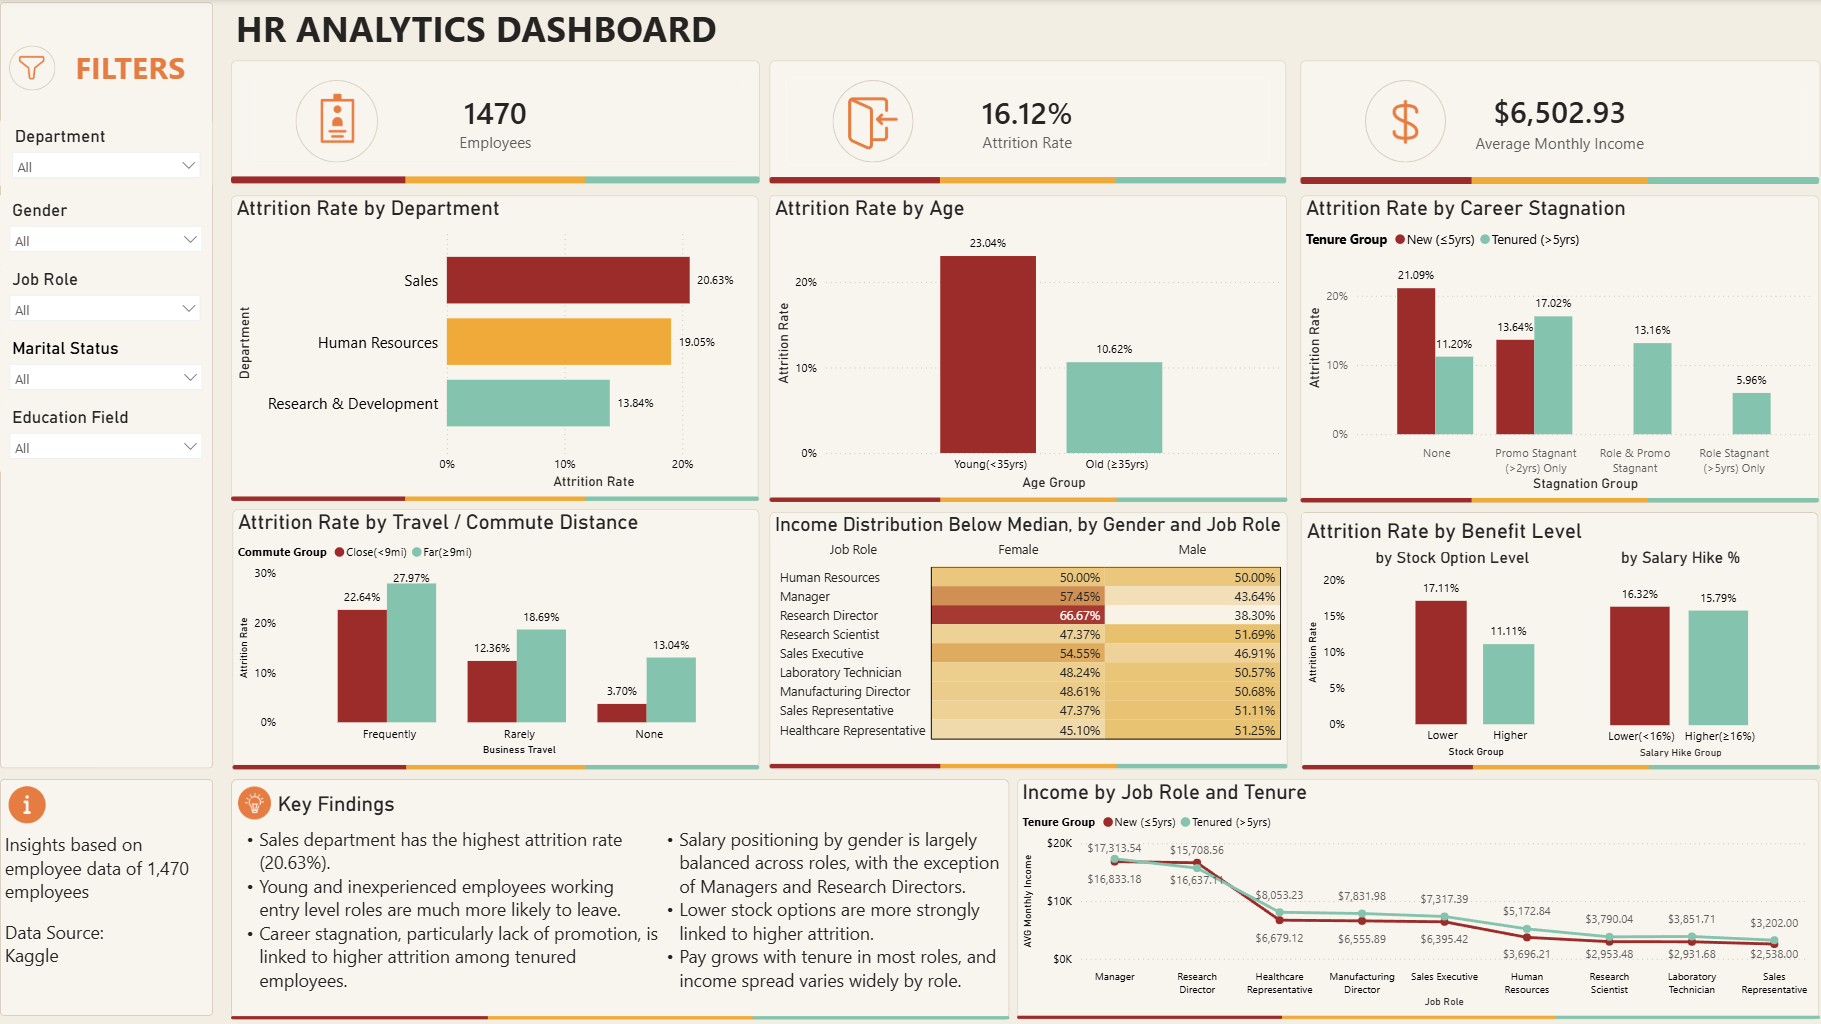

What the dashboard file says about the page in this screenshot:
{"tool":"powerbi","page":{"name":"Page 1","canvas":[1920,1080],"ordinal":0},"visuals":[{"type":"shape","box":[0,6.4,223.6,800.9],"z":0},{"type":"cardVisual","fields":{"Data":["Avg(HR.MonthlyIncome)"]},"box":[1367.2,64.4,546.6,128],"z":0,"group":"g14"},{"type":"cardVisual","title":"Total Employees","fields":{"Data":["HR.Total Employees"]},"box":[242.9,64.7,556,128],"z":0,"group":"g7"},{"type":"cardVisual","fields":{"Data":["HR.Attrition Rate"]},"box":[809.2,64.7,543,128.5],"z":0,"group":"g6"},{"type":"shape","box":[875.5,85.2,85.2,86.8],"z":0,"group":"g18"},{"type":"shape","box":[1435.5,85.2,85.2,86.8],"z":0,"group":"g19"},{"type":"group","id":"g1","title":"Group 4","box":[243.6,206.6,554.5,321.3],"z":0,"group":"g10"},{"type":"clusteredBarChart","title":"Attrition Rate by Department","fields":{"Category":["HR.Department"],"Y":["HR.Attrition Rate"]},"box":[243.6,206.6,554.5,321.3],"z":0,"group":"g1"},{"type":"group","id":"g2","title":"Group 5","box":[1367.8,206.6,545.6,323.1],"z":0,"group":"g11"},{"type":"clusteredColumnChart","title":"Attrition Rate by Career Stagnation","fields":{"Y":["HR.Attrition Rate"],"Series":["HR.Tenure Group"],"Category":["HR.Stagnation Group"]},"box":[1367.8,206.6,545.6,323.1],"z":0,"group":"g2"},{"type":"group","id":"g3","title":"Group 8","box":[243.1,539.5,554.7,271.4],"z":0,"group":"g8"},{"type":"pivotTable","title":"Attrition Rate by Travel / Commute (Married Employees)","fields":{"Values":["HR.Attrition Rate"],"Columns":["HR.Commute Group"],"Rows":["HR.BusinessTravel"]},"box":[243.1,539.5,554.7,271.4],"z":0,"group":"g3"},{"type":"group","id":"g4","title":"Group 6","box":[1367.6,539.5,544.8,269.7],"z":0,"group":"g9"},{"type":"shape","box":[1367.6,539.5,544.8,269.7],"z":0,"group":"g4"},{"type":"group","id":"g5","title":"Group 7","box":[1069.1,820,843.1,252.3],"z":0,"group":"g12"},{"type":"lineChart","title":"Income by Job Role and Tenure","fields":{"Category":["HR.JobRole"],"Y":["Avg(HR.MonthlyIncome)"],"Series":["HR.Tenure Group"]},"box":[1069.1,820,843.1,252.3],"z":0,"group":"g5"},{"type":"shape","title":"KEY FINNGS","box":[243.2,820.3,818.6,253.1],"z":0,"group":"g13"},{"type":"image","box":[883.4,97.8,69.4,66.3],"z":1000,"group":"g18"},{"type":"slicer","fields":{"Values":["HR.Department"]},"box":[0,149.2,212.5,68.3],"z":1000},{"type":"image","box":[1367.4,184,545.1,12.5],"z":1000,"group":"g14"},{"type":"image","box":[243.1,185,555.9,11.7],"z":1000,"group":"g7"},{"type":"image","box":[809.2,185,543,11.8],"z":1000,"group":"g6"},{"type":"columnChart","title":"Attrition Rate by Age","fields":{"Category":["HR.Age Group"],"Y":["HR.Attrition Rate"]},"box":[809.4,206.6,544.2,321.8],"z":1000,"group":"g15"},{"type":"image","box":[242.9,516,555.1,18.7],"z":1000,"group":"g10"},{"type":"image","box":[1367.6,517.1,545.6,19.2],"z":1000,"group":"g11"},{"type":"clusteredColumnChart","title":"by Stock Option Level","fields":{"Y":["HR.Attrition Rate"],"Category":["HR.Stock Group"]},"box":[1369.7,577.2,327.3,230.9],"z":1000,"group":"g4"},{"type":"image","box":[1368.6,797.9,544.8,19.3],"z":1000,"group":"g9"},{"type":"image","box":[242.9,798.3,554.6,19],"z":1000,"group":"g8"},{"type":"image","box":[242.9,1061.3,818.6,19],"z":1000,"group":"g13"},{"type":"image","box":[1069.2,1062.1,844.5,15.1],"z":1000,"group":"g12"},{"type":"slicer","fields":{"Values":["HR.JobRole"]},"box":[0,290,212.5,67.5],"z":2000},{"type":"clusteredColumnChart","title":"by Salary Hike %","fields":{"Y":["HR.Attrition Rate"],"Category":["HR.Salary Hike Group"]},"box":[1637,574.5,270,230],"z":2000,"group":"g4"},{"type":"slicer","fields":{"Values":["HR.Gender"]},"box":[0,217.5,212.5,72.5],"z":3000},{"type":"textbox","box":[1368.8,540.9,320,40.9],"z":3000,"group":"g4"},{"type":"textbox","box":[243.3,0,586.7,67.8],"z":4000},{"type":"group","id":"g6","title":"Group 2","box":[809.2,64.7,548,132.5],"z":5000},{"type":"group","id":"g7","title":"Group 1","box":[242.9,64.7,555.3,132.5],"z":6000},{"type":"textbox","box":[0,59.2,224.2,56.7],"z":7000},{"type":"group","id":"g8","title":"Group 9","box":[242.9,539.5,555.3,277.6],"z":8000},{"type":"group","id":"g9","title":"Group 10","box":[1367.6,539.5,545.8,277.6],"z":9000},{"type":"group","id":"g10","title":"Group 11","box":[242.9,206.6,555.3,328.1],"z":10000},{"type":"group","id":"g11","title":"Group 12","box":[1367.6,206.6,545.8,329.7],"z":11000},{"type":"group","id":"g12","title":"Group 13","box":[1069.1,820,844.5,257.3],"z":12000},{"type":"group","id":"g13","title":"Group 14","box":[242.9,820.3,818.7,260.3],"z":13000},{"type":"image","box":[809.2,513.8,544.7,24.6],"z":14000,"group":"g15"},{"type":"textbox","box":[244.5,870.9,448.2,192.7],"z":14000},{"type":"textbox","box":[287.3,828.2,267.3,36.4],"z":15000},{"type":"textbox","box":[686.4,870.9,375.5,190.9],"z":16000},{"type":"group","id":"g14","title":"Group 3","box":[1367.2,64.4,546.7,132.2],"z":17000},{"type":"columnChart","title":"Below Median Income % by Gender and Job Role","fields":{"Category":["HR.JobRole"],"Series":["HR.Gender"],"Y":["HR.Below Median %"]},"box":[809.2,540,544.7,270.3],"z":17000,"group":"g16"},{"type":"group","id":"g15","title":"Group 15","box":[809.2,206.6,544.2,331.3],"z":18000},{"type":"image","box":[809.7,796.1,544.5,23.9],"z":18000,"group":"g16"},{"type":"group","id":"g16","title":"Group 16","box":[809.2,540,545,280],"z":19000},{"type":"group","id":"g17","title":"Group 17","box":[310.8,85.2,86.8,86.8],"z":20000},{"type":"shape","box":[310.8,85.2,86.8,86.8],"z":20000,"group":"g17"},{"type":"group","id":"g18","title":"Group 18","box":[875.5,85.2,85.2,86.8],"z":21000},{"type":"image","box":[320.3,91.5,69.4,67.8],"z":21000,"group":"g17"},{"type":"group","id":"g19","title":"Group 18","box":[1435.5,85.2,85.2,86.8],"z":22000},{"type":"image","box":[1443.4,96.2,69.4,66.3],"z":23000},{"type":"shape","box":[0,820,223.6,250],"z":24000},{"type":"textbox","box":[8.2,876.4,214.5,181.8],"z":25000},{"type":"image","box":[8.2,828.2,50,47.3],"z":26000},{"type":"image","box":[247.3,828.2,40,34.5],"z":27000}]}

Visuals, with their boxes in screenshot pixels (x1, y1, x2, y2), scaled from the page's 1920x1080 canvas onto the 1821x1024 screenshot:
shape: [0,6,212,765]
cardVisual - Avg(HR.MonthlyIncome): [1297,61,1815,182]
"Total Employees" cardVisual: [230,61,758,183]
cardVisual - HR.Attrition Rate: [767,61,1282,183]
shape: [830,81,911,163]
shape: [1361,81,1442,163]
"Group 4" group: [231,196,757,501]
"Attrition Rate by Department" clusteredBarChart: [231,196,757,501]
"Group 5" group: [1297,196,1815,502]
"Attrition Rate by Career Stagnation" clusteredColumnChart: [1297,196,1815,502]
"Group 8" group: [231,512,757,769]
"Attrition Rate by Travel / Commute (Married Employees)" pivotTable: [231,512,757,769]
"Group 6" group: [1297,512,1814,767]
shape: [1297,512,1814,767]
"Group 7" group: [1014,777,1814,1017]
"Income by Job Role and Tenure" lineChart: [1014,777,1814,1017]
"KEY FINNGS" shape: [231,778,1007,1018]
image: [838,93,904,156]
slicer - HR.Department: [0,141,202,206]
image: [1297,174,1814,186]
image: [231,175,758,187]
image: [767,175,1282,187]
"Attrition Rate by Age" columnChart: [768,196,1284,501]
image: [230,489,757,507]
image: [1297,490,1815,508]
"by Stock Option Level" clusteredColumnChart: [1299,547,1609,766]
image: [1298,757,1815,775]
image: [230,757,756,775]
image: [230,1006,1007,1023]
image: [1014,1007,1815,1021]
slicer - HR.JobRole: [0,275,202,339]
"by Salary Hike %" clusteredColumnChart: [1553,545,1809,763]
slicer - HR.Gender: [0,206,202,275]
textbox: [1298,513,1602,552]
textbox: [231,0,787,64]
"Group 2" group: [767,61,1287,187]
"Group 1" group: [230,61,757,187]
textbox: [0,56,213,110]
"Group 9" group: [230,512,757,775]
"Group 10" group: [1297,512,1815,775]
"Group 11" group: [230,196,757,507]
"Group 12" group: [1297,196,1815,508]
"Group 13" group: [1014,777,1815,1021]
"Group 14" group: [230,778,1007,1023]
image: [767,487,1284,510]
textbox: [232,826,657,1008]
textbox: [272,785,526,820]
textbox: [651,826,1007,1007]
"Group 3" group: [1297,61,1815,186]
"Below Median Income % by Gender and Job Role" columnChart: [767,512,1284,768]
"Group 15" group: [767,196,1284,510]
image: [768,755,1284,777]
"Group 16" group: [767,512,1284,777]
"Group 17" group: [295,81,377,163]
shape: [295,81,377,163]
"Group 18" group: [830,81,911,163]
image: [304,87,370,151]
"Group 18" group: [1361,81,1442,163]
image: [1369,91,1435,154]
shape: [0,777,212,1015]
textbox: [8,831,211,1003]
image: [8,785,55,830]
image: [235,785,272,818]
